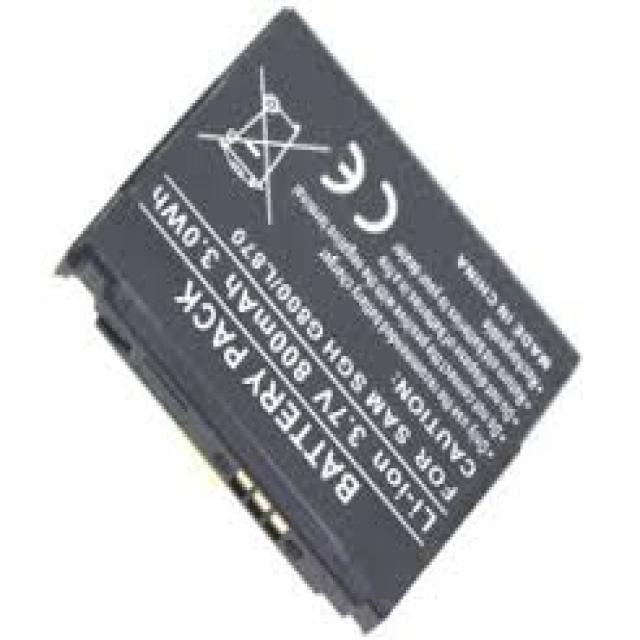battery: (53, 6, 580, 631)
